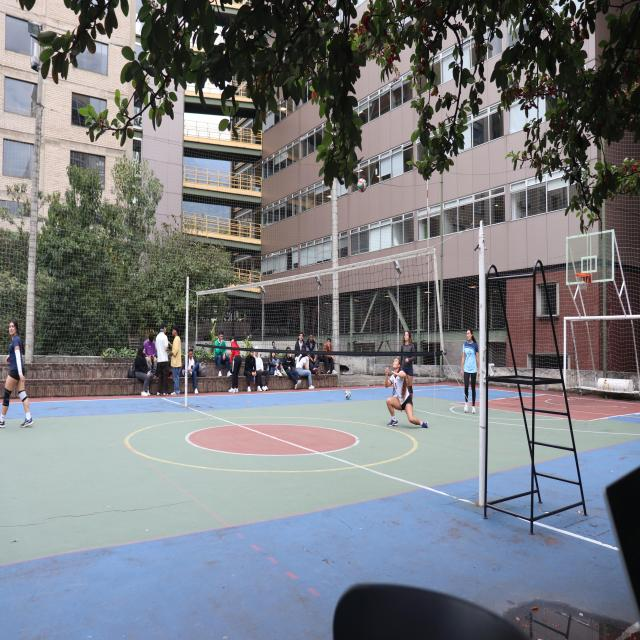volleyball: (358, 178, 366, 192), (345, 390, 351, 399)
